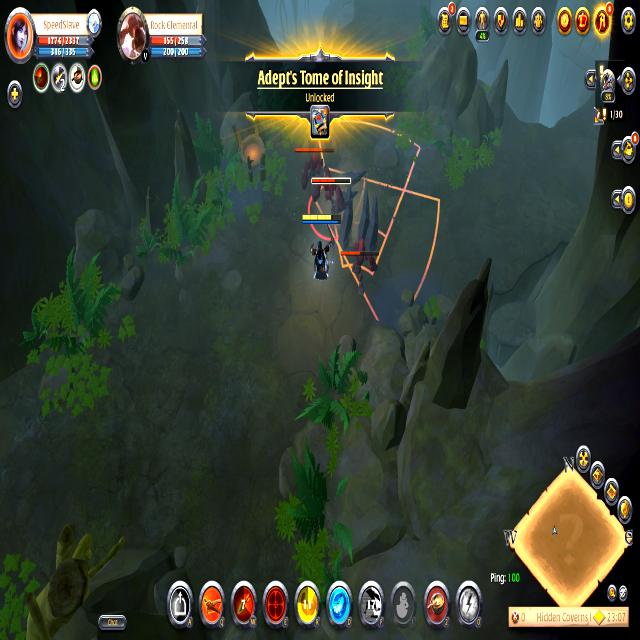ore: (309, 174, 352, 239), (294, 148, 339, 205), (345, 236, 381, 298)
red: (300, 208, 342, 284)
silver: (315, 122, 440, 327)
